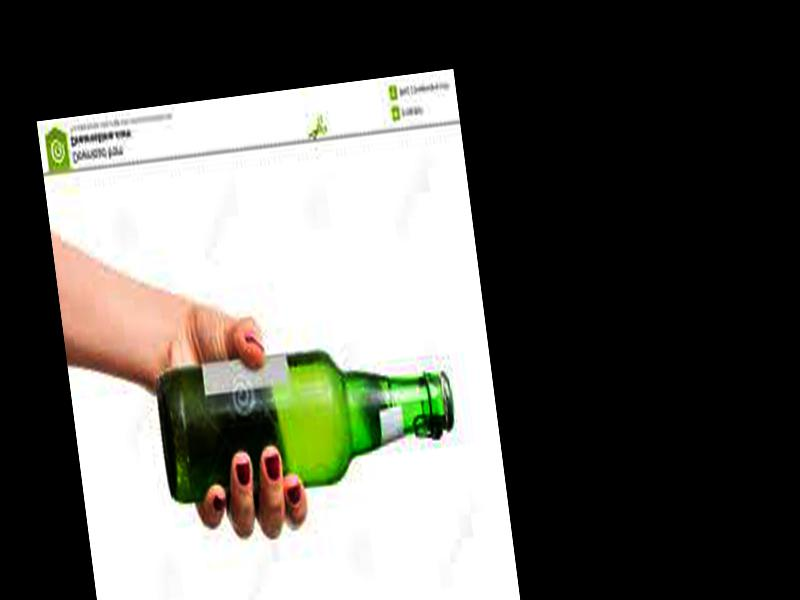Beer: (154, 330, 462, 513)
